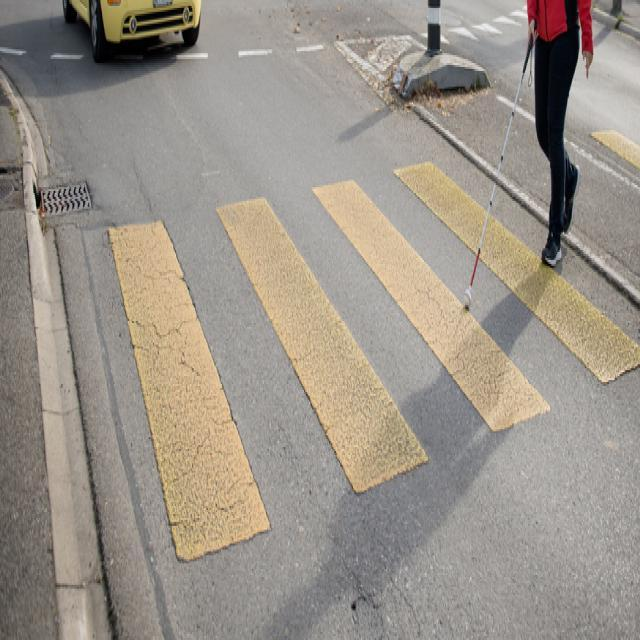crosswalk: (58, 151, 640, 579)
